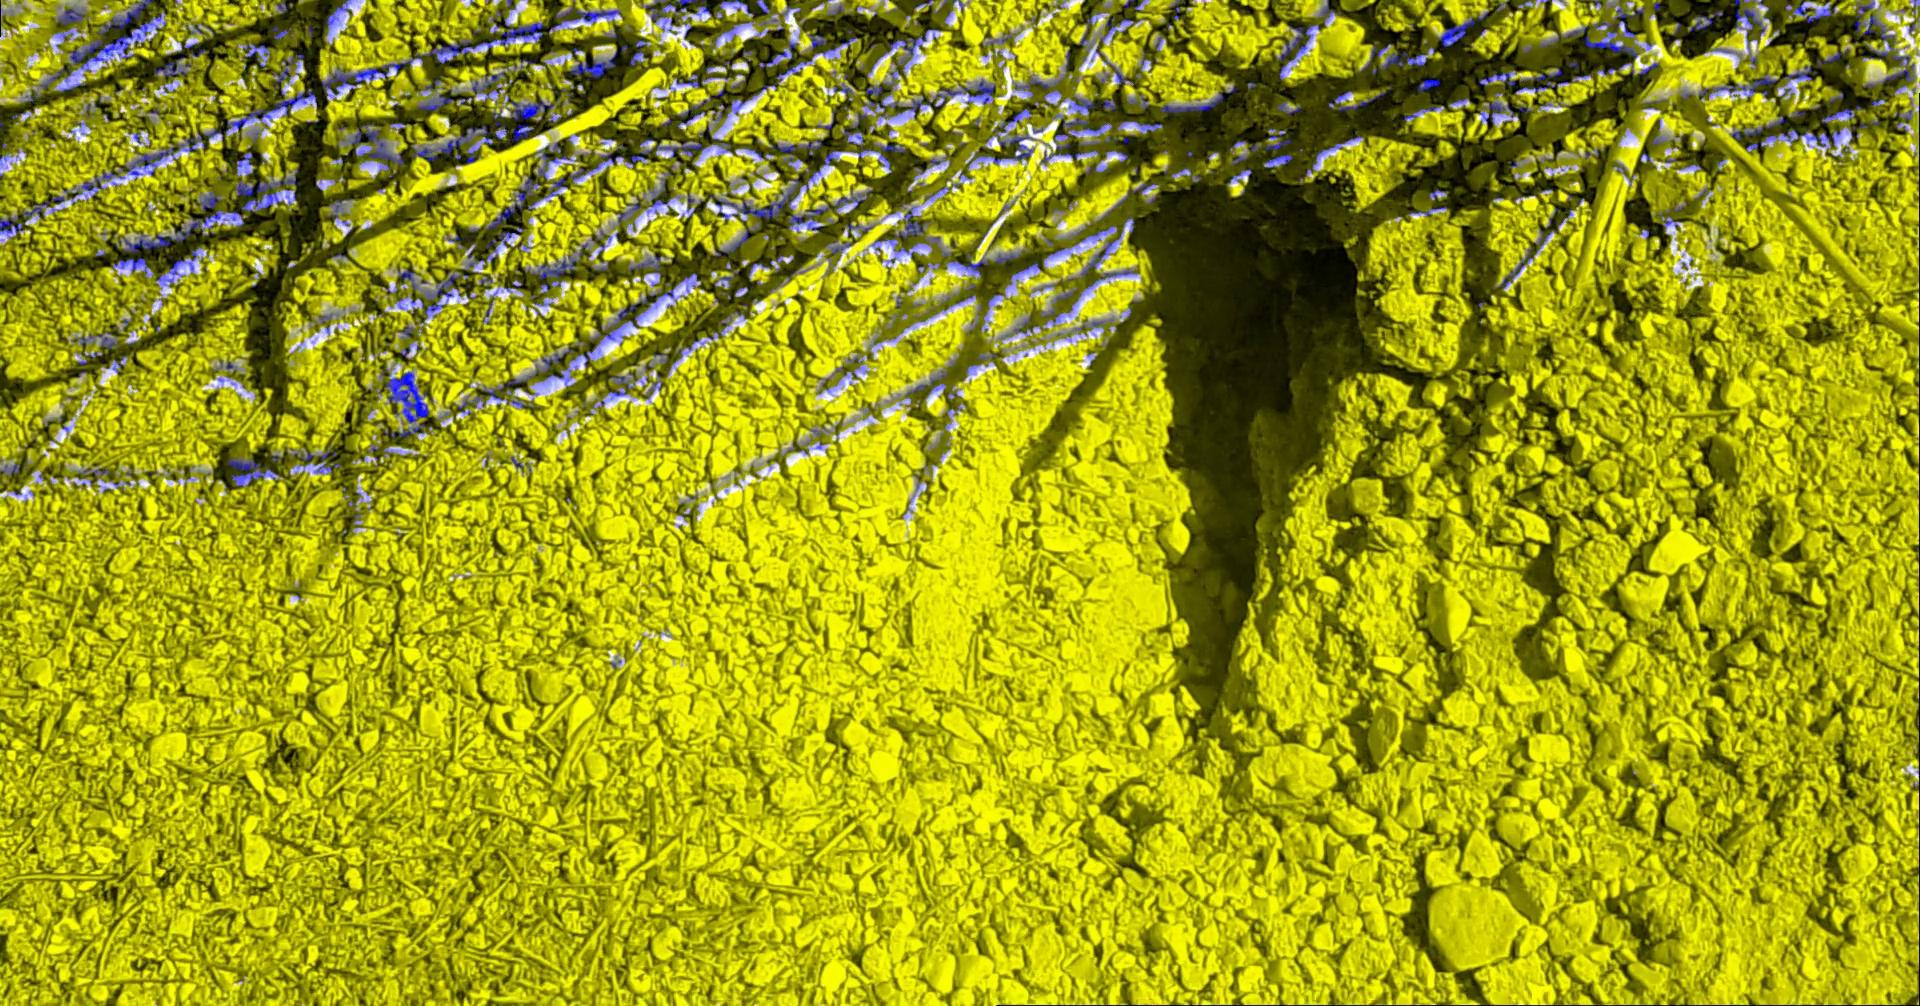ant: (711, 166, 822, 220), (116, 210, 248, 253), (1540, 5, 1641, 58), (592, 287, 676, 343), (895, 80, 997, 118), (970, 107, 1034, 164), (872, 28, 940, 81), (790, 191, 872, 230), (1481, 67, 1592, 93), (1, 196, 66, 238), (488, 177, 540, 229), (352, 123, 405, 170), (1277, 23, 1321, 80), (1307, 133, 1364, 175), (420, 271, 469, 320), (386, 371, 430, 422), (236, 175, 298, 211), (509, 95, 555, 144), (1057, 117, 1164, 137), (550, 0, 621, 30), (627, 140, 709, 166), (874, 210, 926, 250), (439, 124, 494, 163), (571, 44, 629, 80), (678, 88, 725, 130), (1700, 74, 1780, 98), (65, 171, 118, 205), (1869, 46, 1915, 83), (532, 259, 579, 293), (1855, 3, 1896, 42), (1495, 248, 1534, 288), (229, 457, 279, 486), (772, 138, 823, 166), (1083, 238, 1119, 277), (648, 0, 712, 22), (1161, 91, 1225, 113), (1736, 0, 1766, 46), (1097, 44, 1131, 85), (274, 50, 305, 95), (530, 347, 575, 377), (844, 114, 876, 158), (1016, 77, 1062, 107), (485, 377, 530, 406), (1733, 116, 1787, 140), (1373, 51, 1429, 74), (716, 227, 758, 257), (537, 141, 571, 177), (297, 447, 342, 473), (1785, 0, 1837, 22), (1439, 18, 1477, 47), (1043, 144, 1100, 163), (1117, 182, 1159, 207), (817, 29, 858, 53), (907, 371, 949, 395), (472, 71, 505, 102), (155, 55, 189, 83), (951, 251, 990, 276), (1481, 102, 1521, 124), (1086, 271, 1138, 288), (1338, 91, 1387, 111), (777, 58, 813, 84), (877, 144, 907, 174), (749, 255, 787, 278), (629, 255, 663, 281), (1363, 43, 1393, 71), (865, 97, 904, 118), (419, 88, 455, 111), (650, 178, 674, 210), (590, 151, 625, 171), (1691, 10, 1724, 30), (113, 257, 150, 274), (715, 98, 749, 117), (618, 197, 643, 224), (717, 0, 756, 17), (328, 0, 350, 25), (385, 423, 425, 437), (1818, 48, 1851, 65), (822, 149, 852, 166), (1250, 138, 1291, 151), (55, 8, 86, 24), (499, 226, 524, 246), (1322, 0, 1342, 24), (329, 198, 353, 218), (631, 39, 650, 65), (491, 109, 508, 138), (237, 146, 254, 175), (1822, 108, 1857, 122), (197, 191, 220, 211), (1404, 105, 1437, 119), (469, 243, 488, 267), (458, 395, 483, 414), (1081, 14, 1095, 46), (244, 43, 270, 60), (168, 258, 185, 282), (1263, 152, 1294, 166), (182, 39, 207, 56), (1785, 65, 1815, 79), (1015, 315, 1037, 333), (1101, 17, 1117, 41), (549, 177, 569, 196), (399, 269, 418, 290), (1073, 97, 1096, 113), (677, 72, 703, 86), (413, 147, 439, 161), (844, 224, 874, 236), (99, 332, 121, 348), (983, 33, 1013, 44), (778, 41, 797, 58), (1418, 77, 1443, 91), (996, 251, 1023, 263), (190, 23, 215, 36), (273, 25, 295, 39), (836, 85, 853, 102), (1277, 102, 1303, 113), (611, 375, 634, 387), (712, 138, 733, 152), (810, 34, 828, 48), (278, 0, 295, 13), (1101, 98, 1117, 111), (94, 464, 110, 476), (866, 84, 884, 95), (758, 0, 772, 13)
